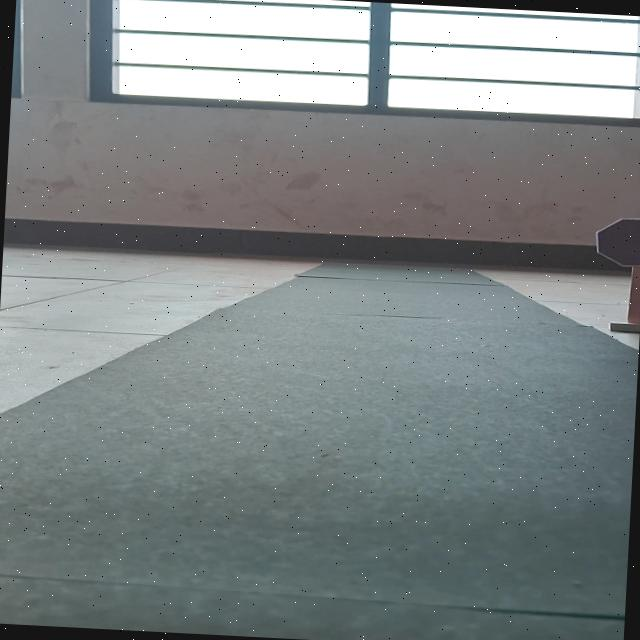Stop: (592, 215, 640, 269)
